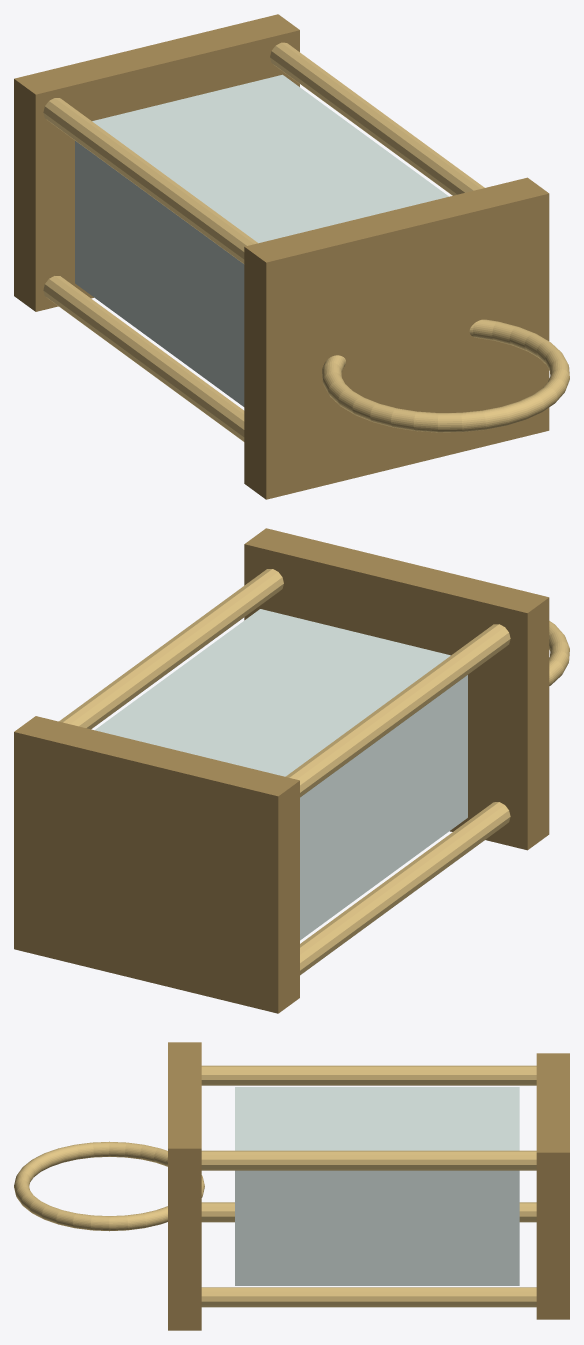
The model's file is prop_bottom_lantern.glb.
3 views of the same model, one above another, from view 1: azimuth 30°, elevation 25°; view 2: azimuth 150°, elevation 25°; view 3: azimuth 270°, elevation 25° (orthographic). The views are drawn at different scales.
Parts seen in each view (by area): view 1: prop_bottom_lantern_top_cap, prop_bottom_lantern_soft_glass_body, prop_bottom_lantern_brass_base, prop_bottom_lantern_small_handle_loop, prop_bottom_lantern_corner_post_-0.12_+0.09, prop_bottom_lantern_corner_post_-0.12_-0.09, prop_bottom_lantern_corner_post_+0.12_+0.09; view 2: prop_bottom_lantern_brass_base, prop_bottom_lantern_soft_glass_body, prop_bottom_lantern_top_cap, prop_bottom_lantern_corner_post_-0.12_+0.09, prop_bottom_lantern_corner_post_-0.12_-0.09, prop_bottom_lantern_corner_post_+0.12_+0.09, prop_bottom_lantern_small_handle_loop; view 3: prop_bottom_lantern_soft_glass_body, prop_bottom_lantern_top_cap, prop_bottom_lantern_brass_base, prop_bottom_lantern_corner_post_-0.12_+0.09, prop_bottom_lantern_corner_post_+0.12_-0.09, prop_bottom_lantern_corner_post_+0.12_+0.09, prop_bottom_lantern_small_handle_loop, prop_bottom_lantern_corner_post_-0.12_-0.09.
Part boxes in pixels (left/top/right/bottom): prop_bottom_lantern_top_cap: left=244, top=177, right=549, bottom=499; prop_bottom_lantern_soft_glass_body: left=75, top=74, right=448, bottom=406; prop_bottom_lantern_brass_base: left=14, top=14, right=299, bottom=311; prop_bottom_lantern_small_handle_loop: left=322, top=319, right=569, bottom=432; prop_bottom_lantern_corner_post_-0.12_+0.09: left=43, top=98, right=257, bottom=263; prop_bottom_lantern_corner_post_-0.12_-0.09: left=43, top=276, right=244, bottom=441; prop_bottom_lantern_corner_post_+0.12_+0.09: left=270, top=42, right=484, bottom=195; prop_bottom_lantern_brass_base: left=14, top=716, right=299, bottom=1013; prop_bottom_lantern_soft_glass_body: left=95, top=609, right=467, bottom=940; prop_bottom_lantern_top_cap: left=244, top=528, right=549, bottom=850; prop_bottom_lantern_corner_post_-0.12_+0.09: left=285, top=624, right=510, bottom=797; prop_bottom_lantern_corner_post_-0.12_-0.09: left=300, top=802, right=510, bottom=975; prop_bottom_lantern_corner_post_+0.12_+0.09: left=59, top=569, right=283, bottom=729; prop_bottom_lantern_small_handle_loop: left=549, top=621, right=569, bottom=685; prop_bottom_lantern_soft_glass_body: left=235, top=1087, right=519, bottom=1285; prop_bottom_lantern_top_cap: left=168, top=1042, right=201, bottom=1330; prop_bottom_lantern_brass_base: left=536, top=1053, right=569, bottom=1319; prop_bottom_lantern_corner_post_-0.12_+0.09: left=201, top=1065, right=536, bottom=1085; prop_bottom_lantern_corner_post_+0.12_-0.09: left=201, top=1287, right=536, bottom=1307; prop_bottom_lantern_corner_post_+0.12_+0.09: left=201, top=1150, right=536, bottom=1170; prop_bottom_lantern_small_handle_loop: left=14, top=1141, right=204, bottom=1231; prop_bottom_lantern_corner_post_-0.12_-0.09: left=201, top=1202, right=536, bottom=1222.
Size of the model in its own units: 0.216 by 0.1728 by 0.4781.
